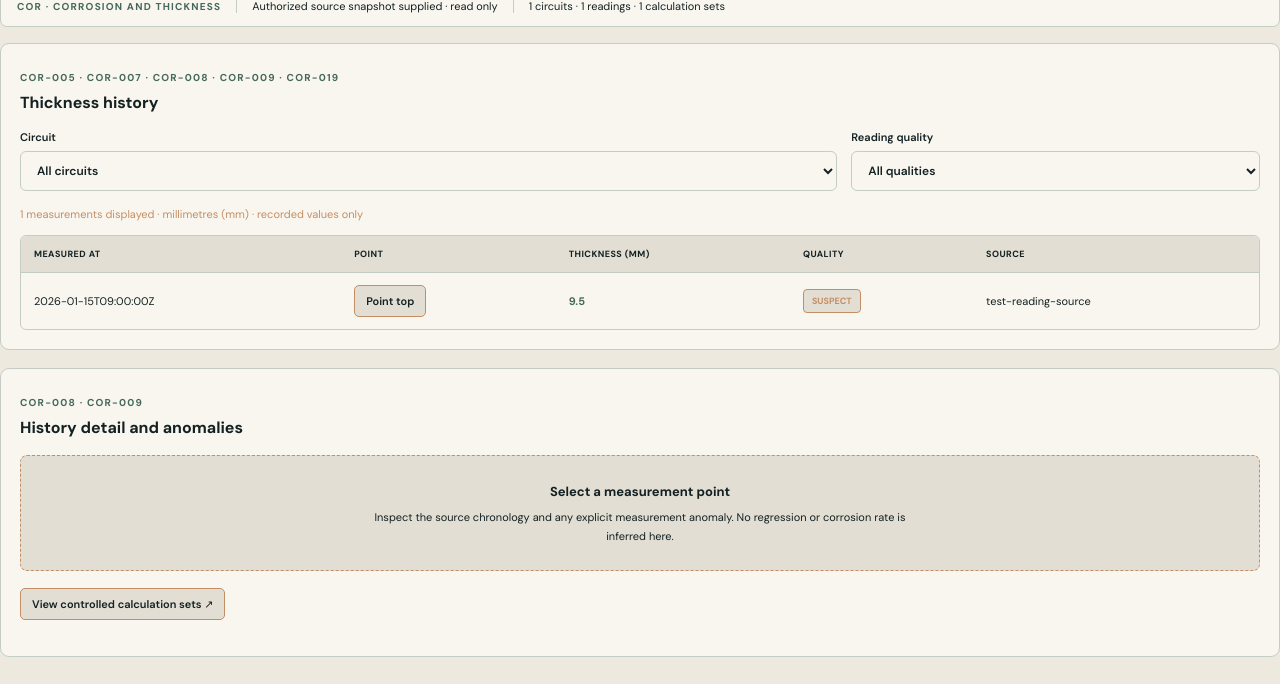
Test: Future AAS–AIM COR engineering frontend › inspects an anomaly without silently validating a suspect reading
Click the button with aria-label "Inspect point point-1": [390, 301] box [354,285,426,317]
(page scrolled)
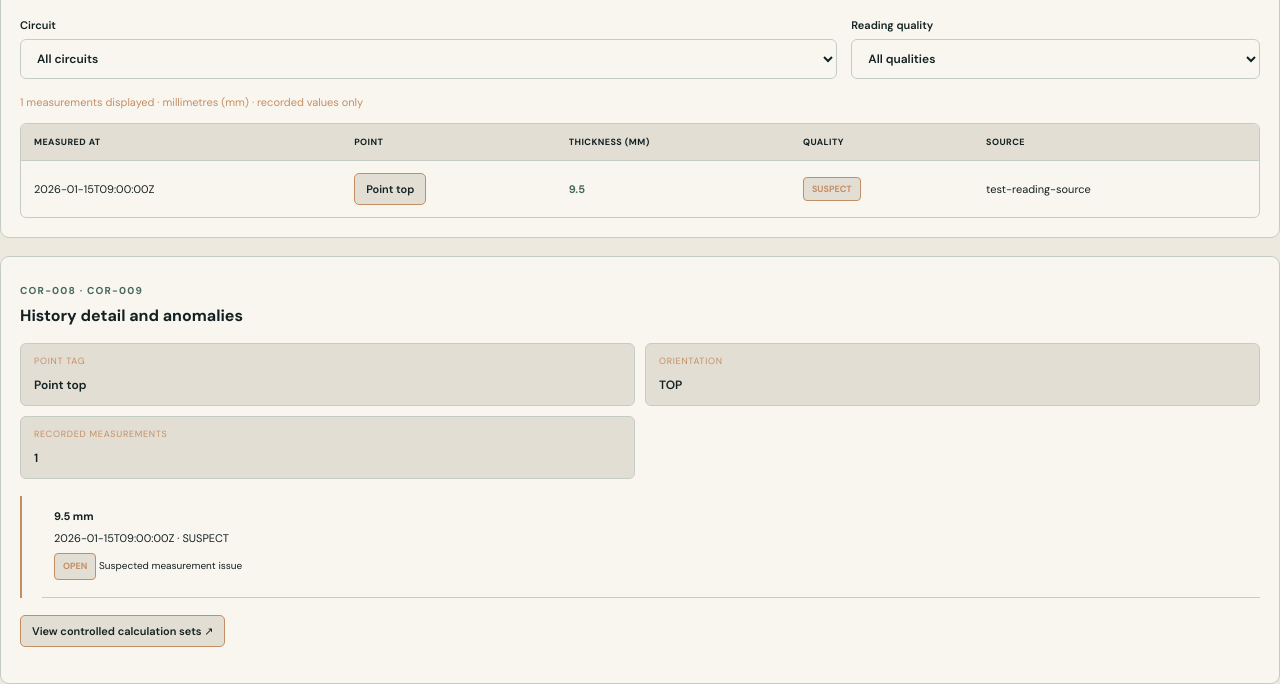
expect the text "Suspected measurement issue" is shown: met, box [99,559,242,572]
expect the text "OPEN" is shown: met, box [54,553,96,580]
